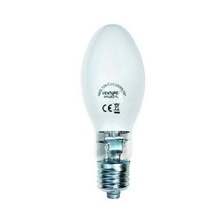light_bulb: (76, 17, 150, 205)
